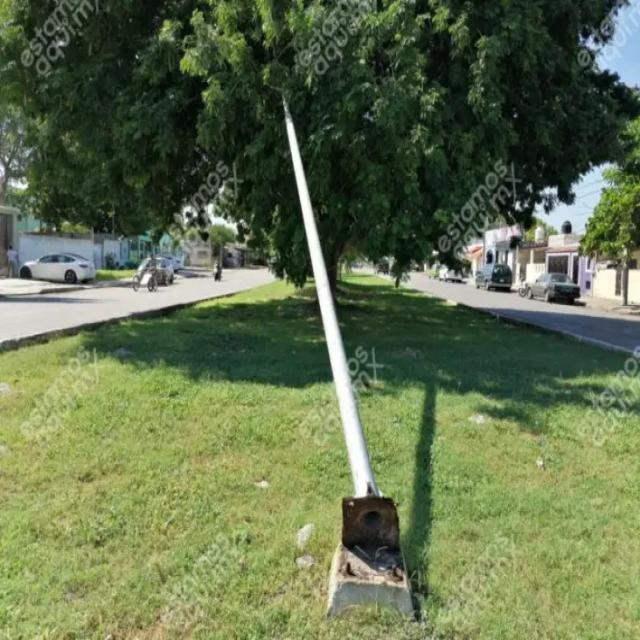Inclined Pole: (280, 90, 419, 622)
